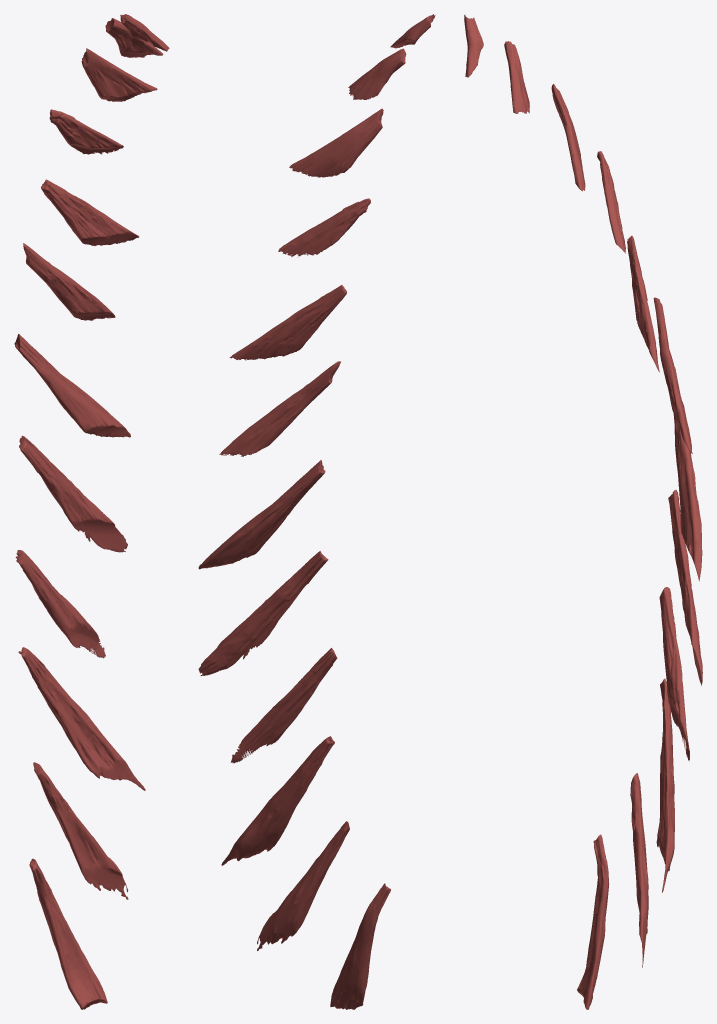
Rendered from FMA74078.glb.
3 renders of one model, left to right at view 1: azimuth 30°, elevation 25°; view 2: azimuth 150°, elevation 25°; view 3: azimuth 270°, elevation 25°, orthographic. The views are drawn at different scales.
Parts seen in each view (by area): view 1: FMA74078; view 2: FMA74078; view 3: FMA74078.
Part boxes in pixels (left/top/right/bottom): FMA74078: left=14, top=14, right=169, bottom=1009; FMA74078: left=198, top=14, right=435, bottom=1009; FMA74078: left=464, top=14, right=702, bottom=1009.
Size of the model in its own units: 0.0484 by 0.3142 by 0.0698.
